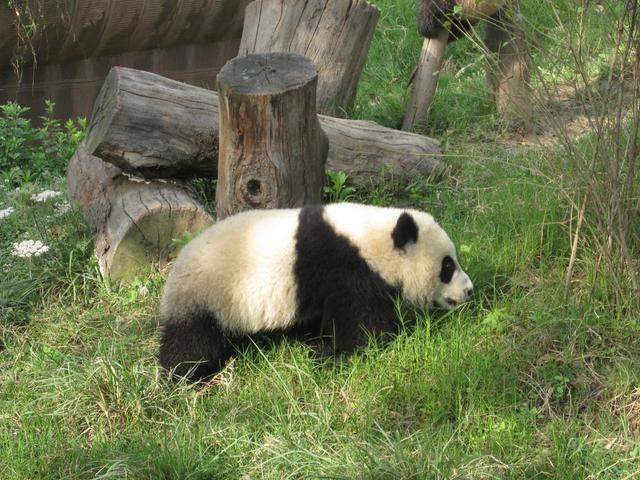panda: (114, 141, 520, 414)
